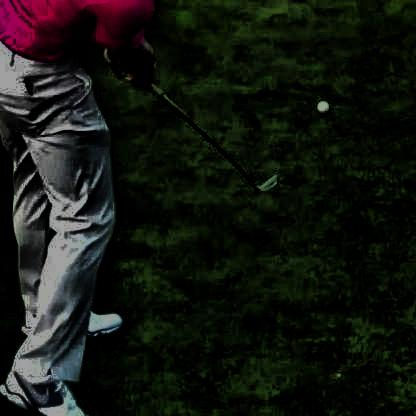golfball: (315, 99, 327, 110)
